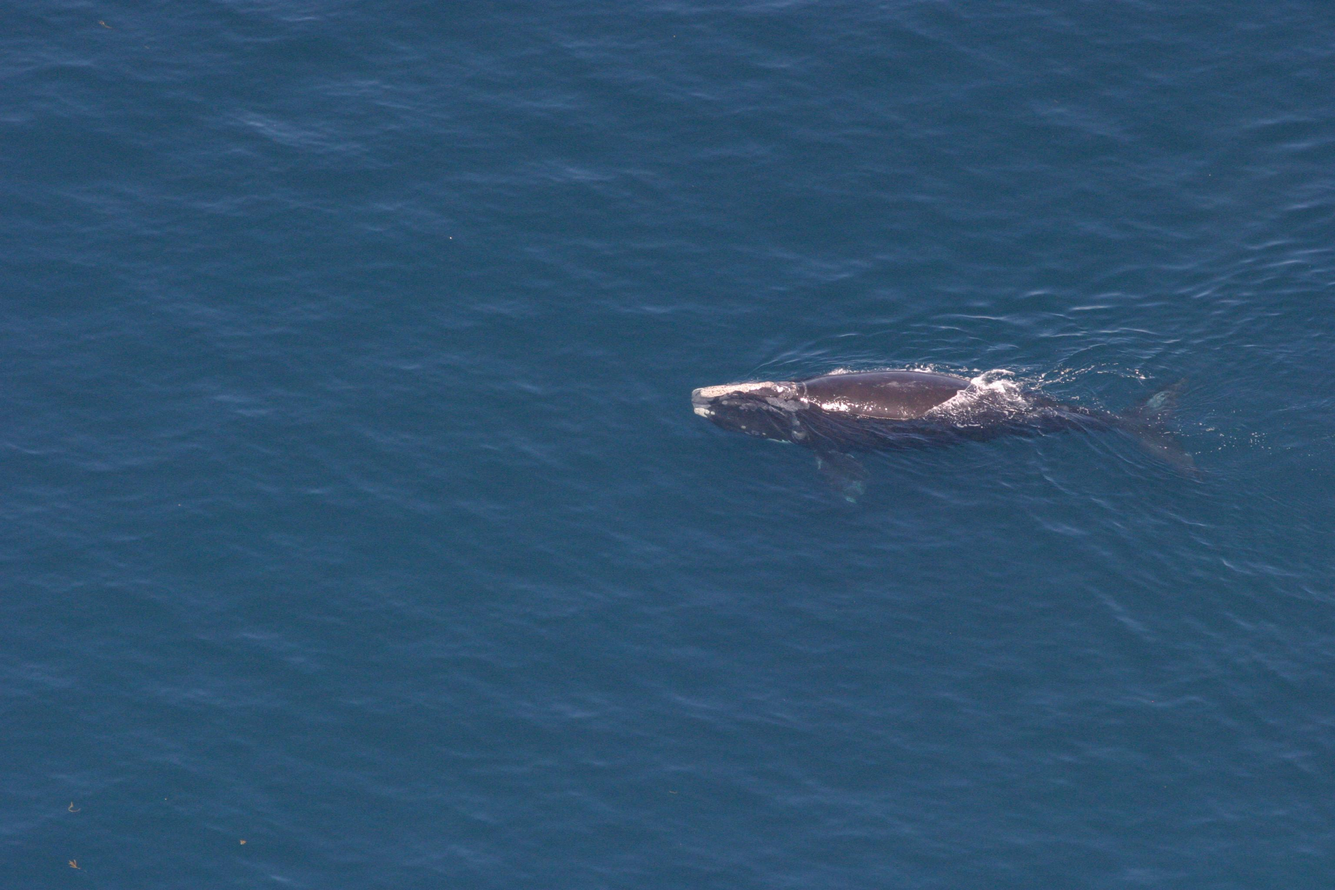whale: (685, 353, 1211, 518)
